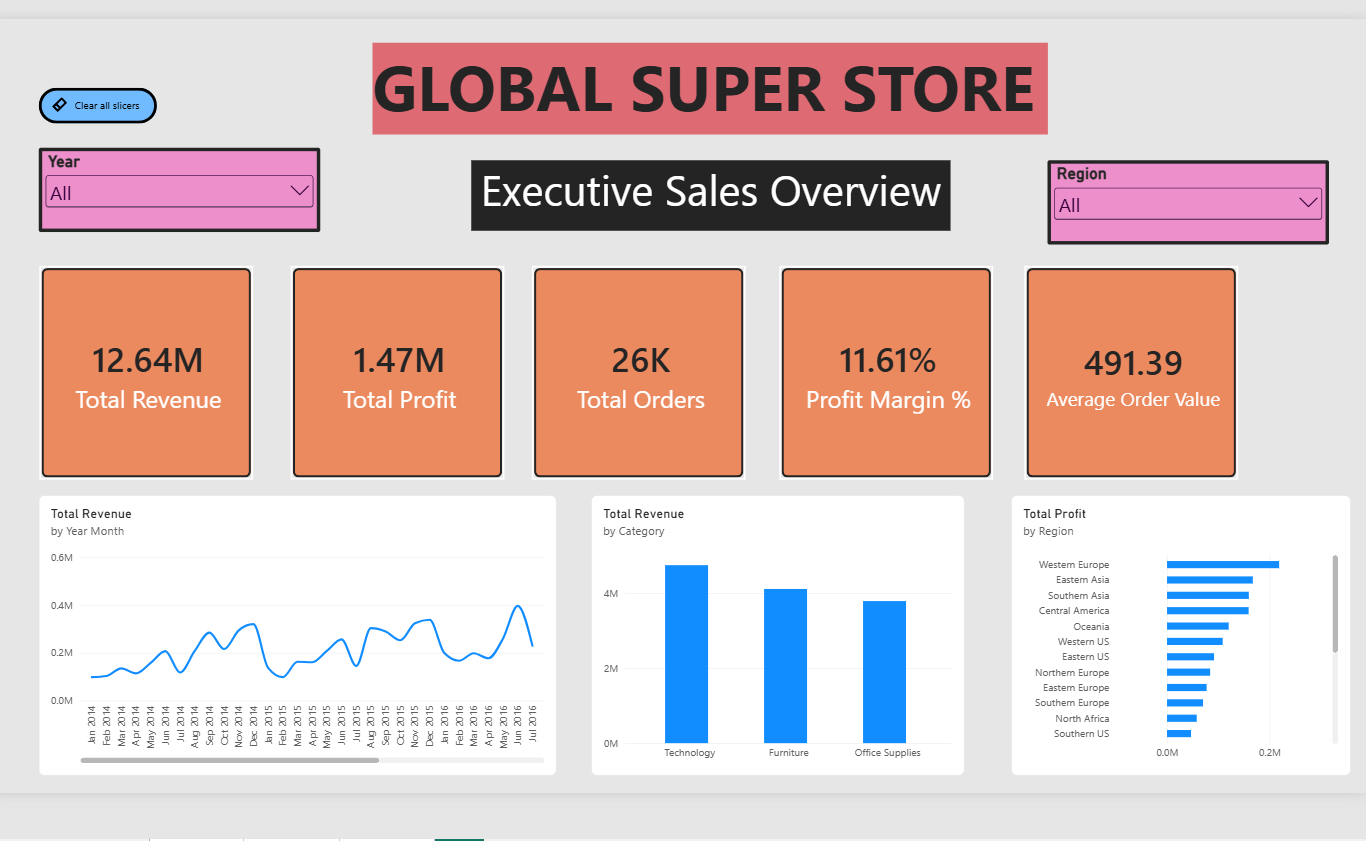

The page's visual inventory and layout, read from the dashboard file:
{"tool":"powerbi","page":{"name":"Page 1","canvas":[1920,1080],"ordinal":0},"visuals":[{"type":"textbox","box":[533.1,32.9,942.7,127.6],"z":0},{"type":"textbox","box":[671,197.6,669,98.8],"z":1},{"type":"cardVisual","fields":{"Data":["Orders.Total Revenue"]},"box":[67.9,343.7,300,300],"z":2},{"type":"cardVisual","fields":{"Data":["Orders.Total Profit"]},"box":[417.8,343.7,300,300],"z":3},{"type":"cardVisual","fields":{"Data":["Orders.Total Orders"]},"box":[755.4,343.7,300,300],"z":4},{"type":"cardVisual","fields":{"Data":["Orders.Profit Margin %"]},"box":[1101.2,343.7,300,300],"z":5},{"type":"cardVisual","fields":{"Data":["Orders.Average Order Value"]},"box":[1442.9,343.7,300,300],"z":6},{"type":"lineChart","fields":{"Category":["Date Table.Year Month"],"Y":["Orders.Total Revenue"]},"box":[67.9,664.8,722.5,391.1],"z":7},{"type":"clusteredColumnChart","fields":{"Category":["Orders.Category"],"Y":["Orders.Total Revenue"]},"box":[839.8,664.8,520.8,391.1],"z":8},{"type":"clusteredBarChart","fields":{"Category":["Orders.Region"],"Y":["Orders.Total Profit"]},"box":[1424.4,664.8,473.4,391.1],"z":9},{"type":"slicer","fields":{"Values":["Orders.Region"]},"box":[1475.8,197.6,393.1,117.3],"z":10},{"type":"slicer","fields":{"Values":["Date Table.Date.Variation.Date Hierarchy.Year"]},"box":[67.9,179.1,393.1,117.3],"z":11},{"type":"actionButton","box":[68.3,96.7,165,50],"z":12}]}

Visuals, with their boxes on the page's 1920x1080 design canvas (x1, y1, x2, y2). These are canvas units, not pixel positions in the 1366x841 screenshot, which may show the page scaled, cropped or inside an application window:
textbox: rect(533, 33, 1476, 160)
textbox: rect(671, 198, 1340, 296)
cardVisual - Orders.Total Revenue: rect(68, 344, 368, 644)
cardVisual - Orders.Total Profit: rect(418, 344, 718, 644)
cardVisual - Orders.Total Orders: rect(755, 344, 1055, 644)
cardVisual - Orders.Profit Margin %: rect(1101, 344, 1401, 644)
cardVisual - Orders.Average Order Value: rect(1443, 344, 1743, 644)
lineChart - Date Table.Year Month x Orders.Total Revenue: rect(68, 665, 790, 1056)
clusteredColumnChart - Orders.Category x Orders.Total Revenue: rect(840, 665, 1361, 1056)
clusteredBarChart - Orders.Region x Orders.Total Profit: rect(1424, 665, 1898, 1056)
slicer - Orders.Region: rect(1476, 198, 1869, 315)
slicer - Date Table.Date.Variation.Date Hierarchy.Year: rect(68, 179, 461, 296)
actionButton: rect(68, 97, 233, 147)
